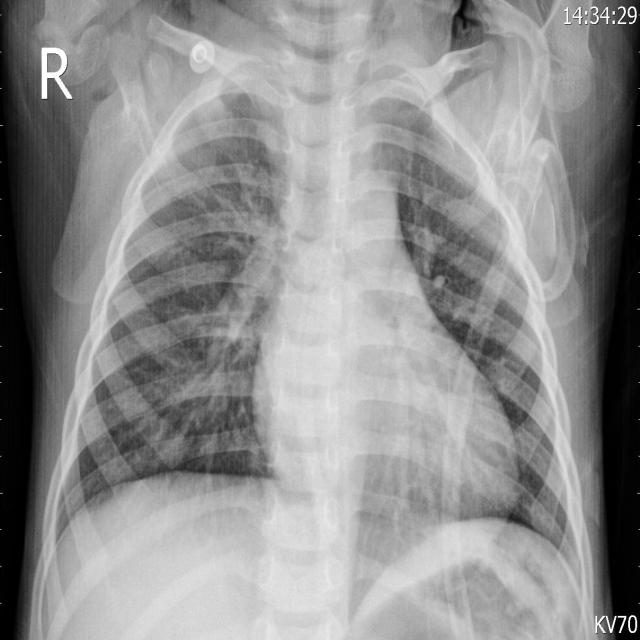low-pneumonia: (149, 170, 284, 432), (391, 68, 495, 244), (192, 73, 288, 171)
